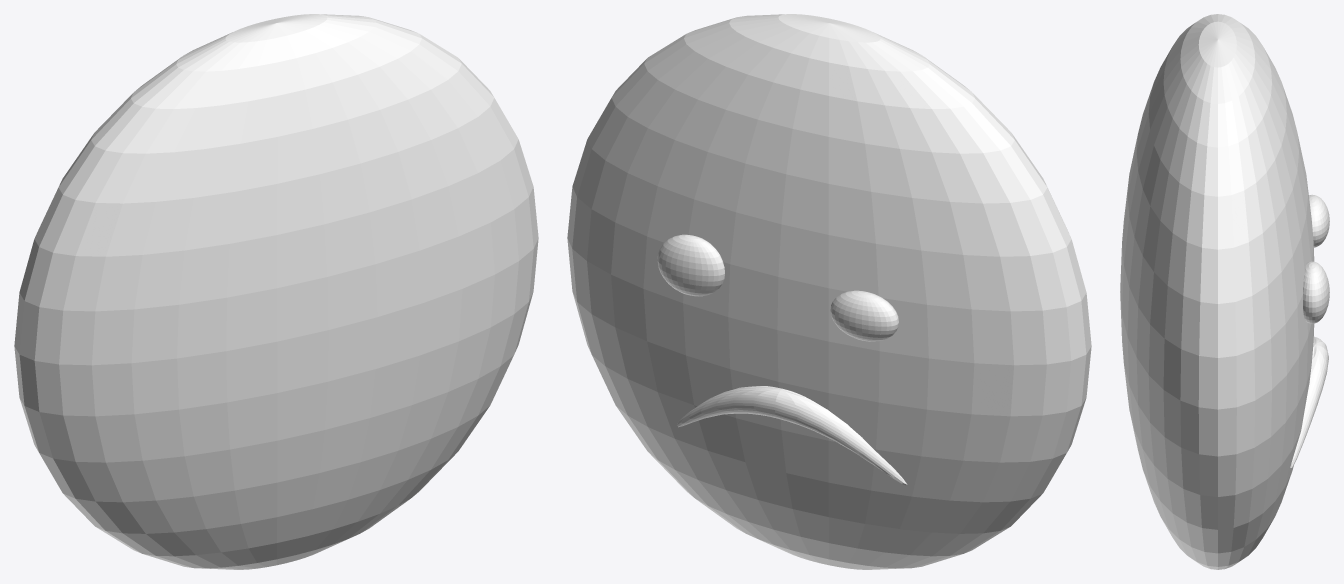
Rendered from Slump.obj.
3 views of the same model, side by side, from view 1: azimuth 30°, elevation 25°; view 2: azimuth 150°, elevation 25°; view 3: azimuth 270°, elevation 25° (orthographic). The views are drawn at different scales.
Visible parts, largest first — view 1: 球; view 2: 球, 球.003, 球.001, 球.002; view 3: 球, 球.003, 球.001, 球.002.
Part boxes in pixels (x1=…): 球: x1=14, y1=14, x2=538, y2=569; 球: x1=567, y1=14, x2=1091, y2=569; 球.003: x1=677, y1=386, x2=907, y2=485; 球.001: x1=657, y1=234, x2=724, y2=296; 球.002: x1=830, y1=290, x2=898, y2=341; 球: x1=1120, y1=14, x2=1314, y2=569; 球.003: x1=1290, y1=336, x2=1328, y2=469; 球.001: x1=1303, y1=261, x2=1329, y2=323; 球.002: x1=1309, y1=194, x2=1329, y2=247.
Size of the model in its own units: 2 by 2 by 0.7536.
